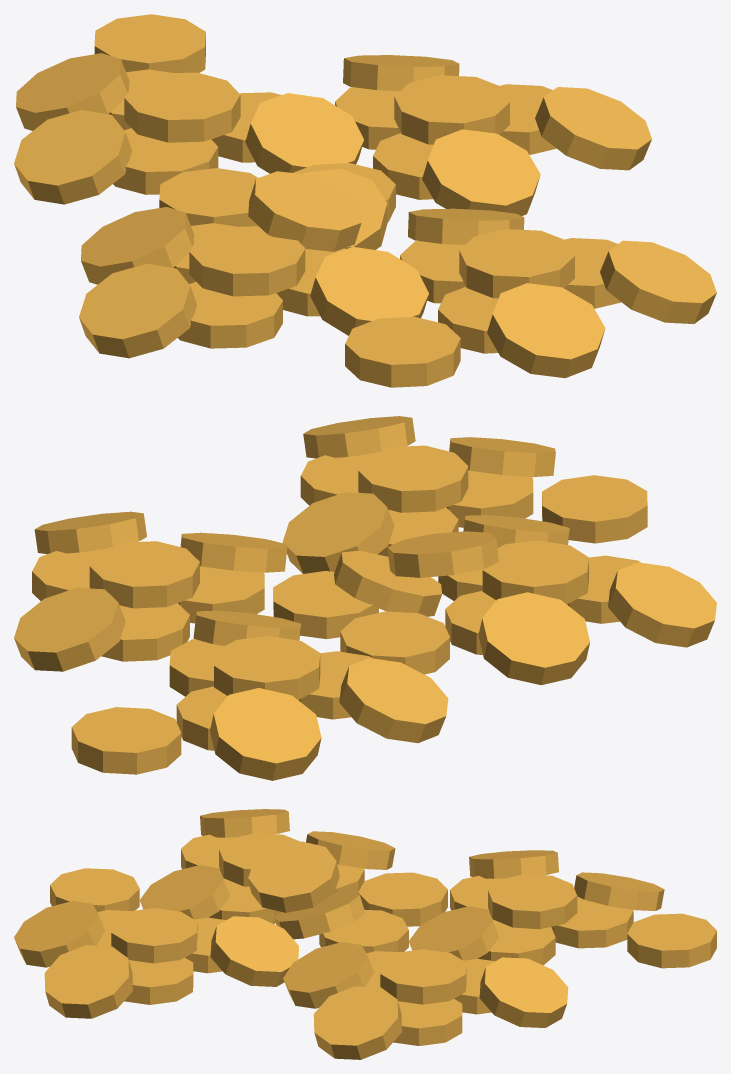
File: coins1.glb
3 renders of one model, top to bottom at view 1: azimuth 30°, elevation 25°; view 2: azimuth 150°, elevation 25°; view 3: azimuth 270°, elevation 25°, orthographic. The views are drawn at different scales.
Parts seen in each view (by area): view 1: Gold5; view 2: Gold5; view 3: Gold5.
Boxes of the visible parts, x1=… form: Gold5: x1=14, y1=14, x2=716, y2=387; Gold5: x1=14, y1=416, x2=716, y2=780; Gold5: x1=14, y1=809, x2=716, y2=1059.
Bounding box in the file's own units: 1.07 × 0.1345 × 1.33.
Materials: 1 (1 with a texture image).
